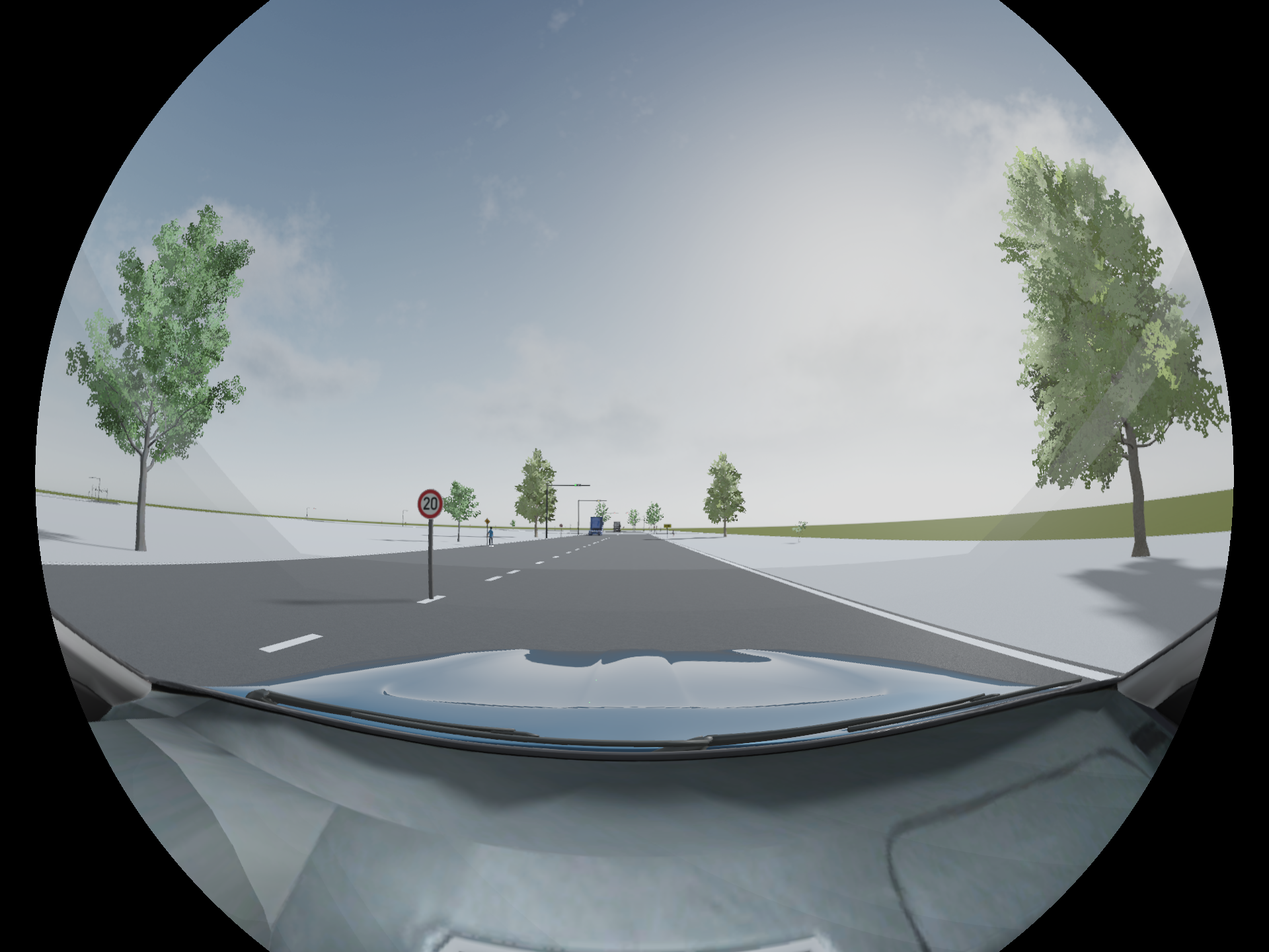Green Light: (574, 483, 582, 487)
Speed Limit 20: (418, 488, 443, 519)
